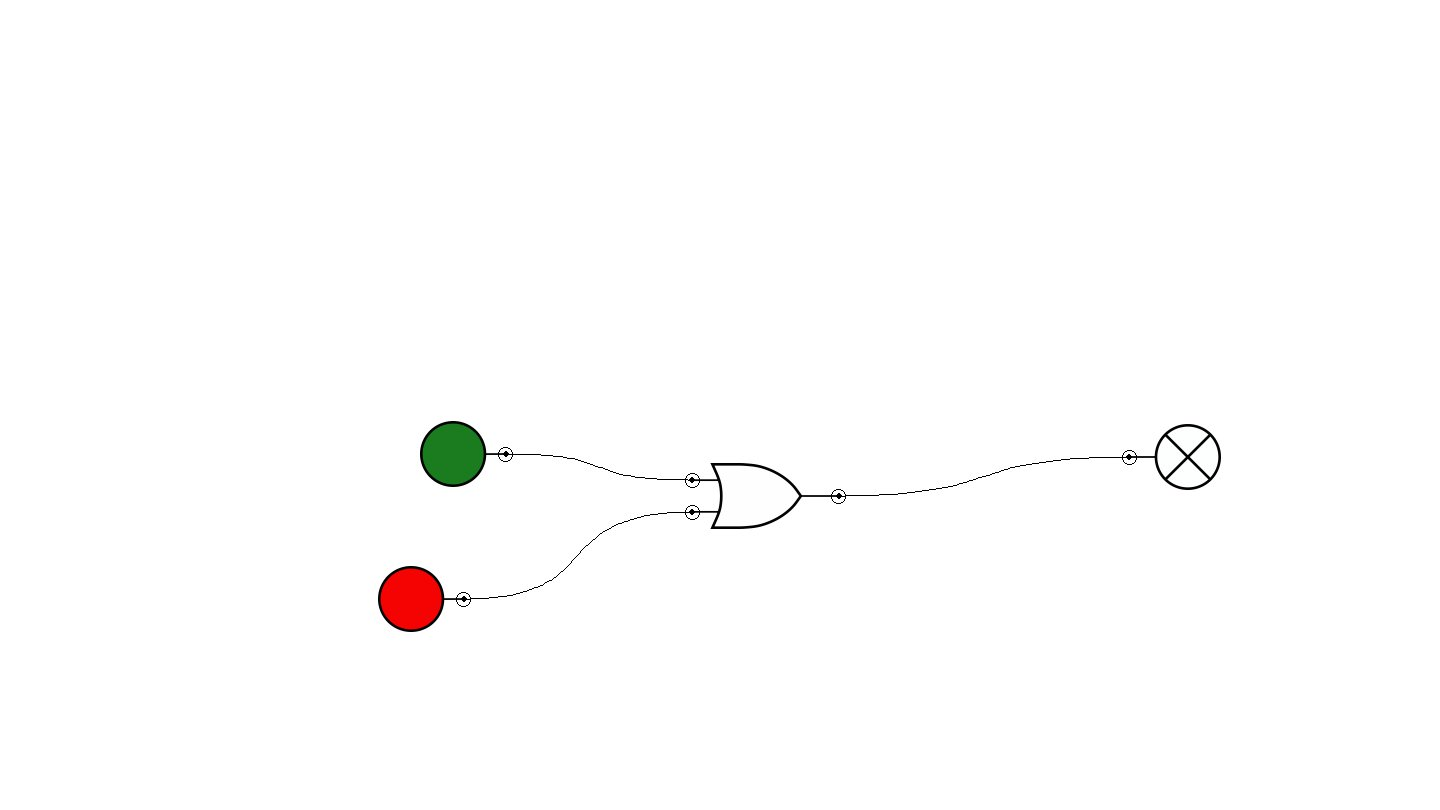bulb: (1122, 424, 1221, 490)
or: (685, 463, 846, 529)
switch_False: (378, 566, 471, 632)
switch_True: (420, 421, 513, 487)
